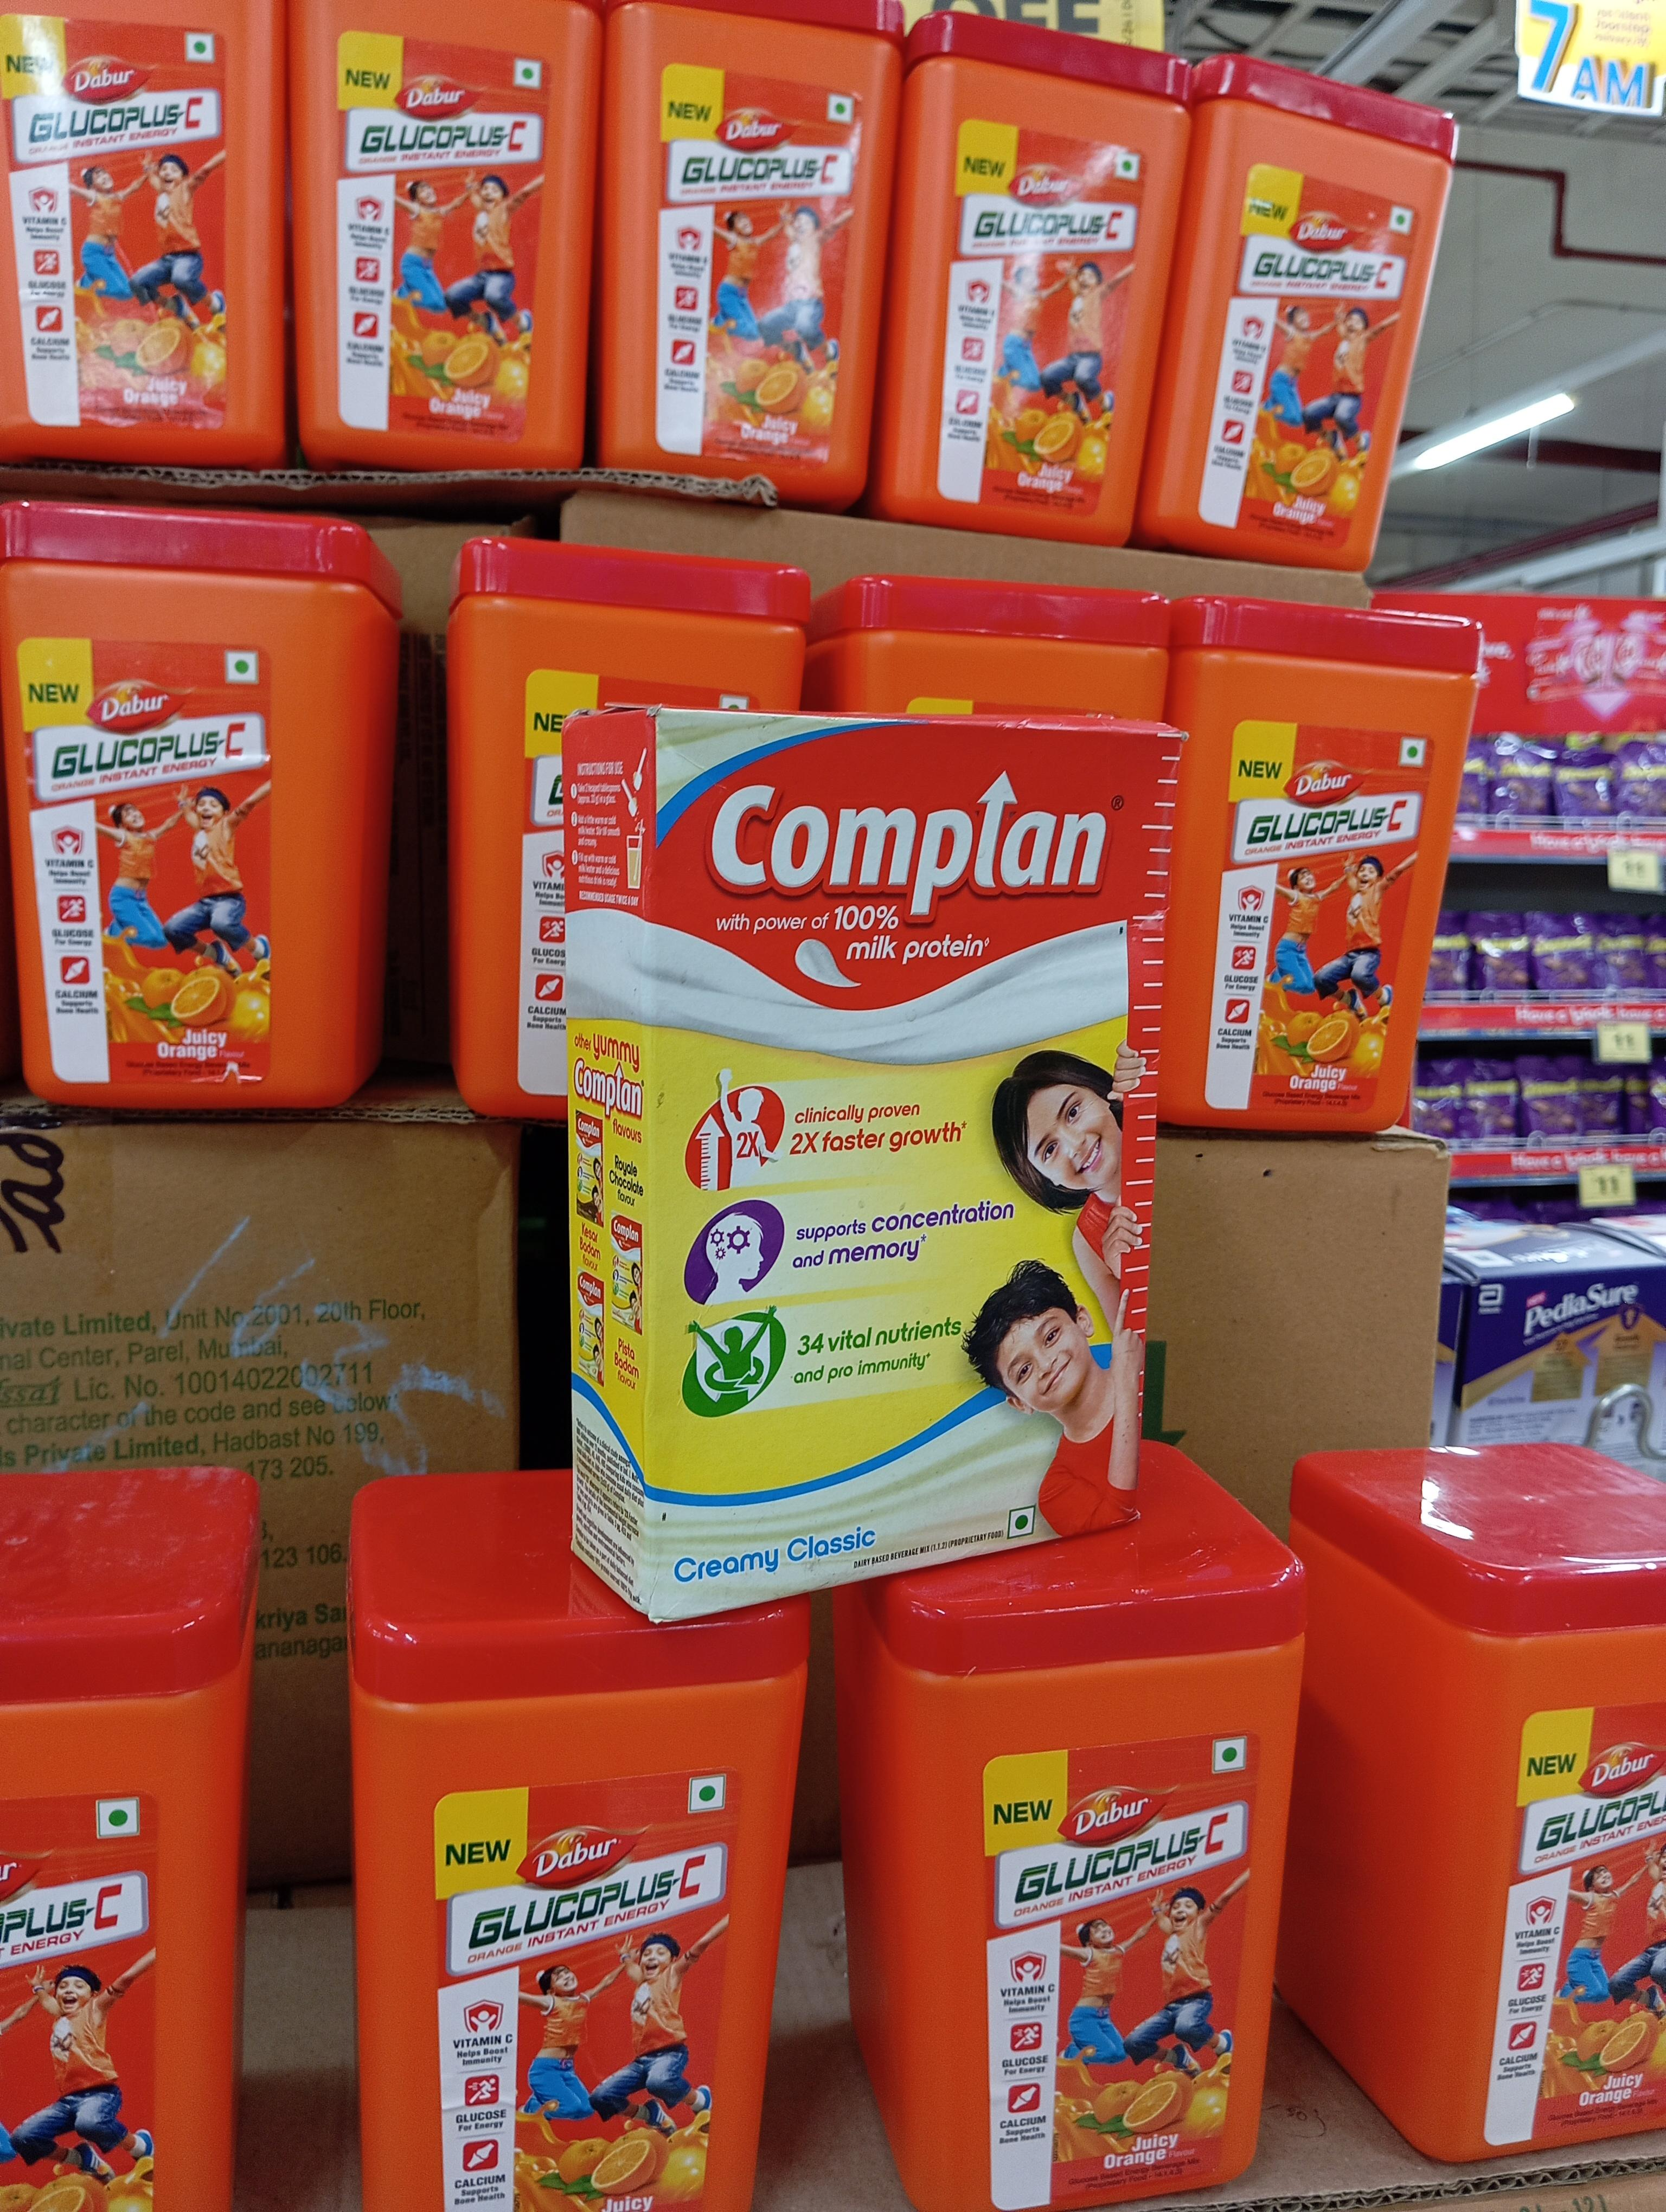COMPLAN_CREAMY_CLASSIC_500_G_PACK: (641, 705, 1145, 1558)
